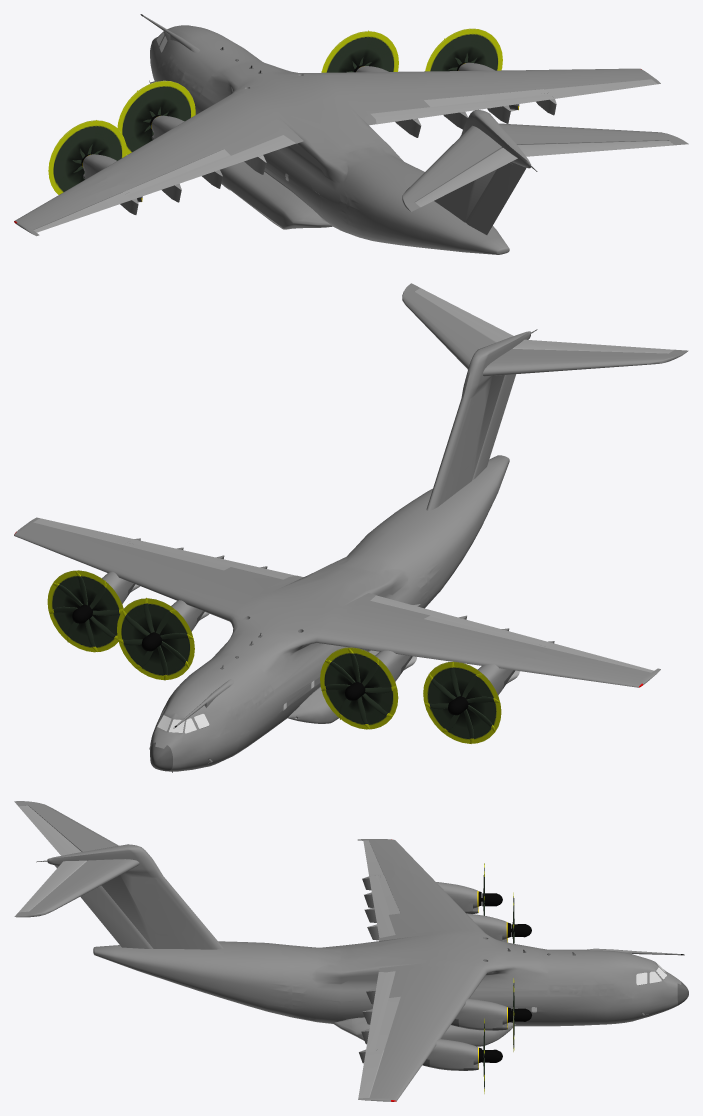
The picture shows the model from 3 angles, top to bottom: view 1: azimuth 30°, elevation 25°; view 2: azimuth 150°, elevation 25°; view 3: azimuth 270°, elevation 25°; orthographic projection. The views are drawn at different scales.
Parts seen in each view (by area): view 1: fuselage, Color_01.010, Disque0.2, Disque1.2, Mesh192, Mesh193, v-stab, Disque3.2, Disque2.2, rudder, left-flap, right-flap (+8 smaller); view 2: fuselage, v-stab, Disque0, Disque1, Disque2, Disque3, Mesh192, Mesh193, l-elevator, rudder, r-elevator, left-flap (+3 smaller); view 3: fuselage, v-stab, Mesh193, rudder, Mesh192, Mesh359, Mesh355, Color_01.009, right-flap, r-elevator, l-elevator, left-flap (+4 smaller).
Boxes of the visible parts, box(x1,y1,x2,y2) form: fuselage: box(15, 25, 660, 254); Color_01.010: box(220, 161, 332, 228); Disque0.2: box(49, 120, 126, 194); Disque1.2: box(118, 81, 195, 154); Mesh192: box(402, 125, 501, 211); Mesh193: box(498, 123, 688, 145); v-stab: box(434, 109, 530, 222); Disque3.2: box(426, 28, 502, 71); Disque2.2: box(322, 31, 398, 72); rudder: box(466, 162, 524, 234); left-flap: box(127, 135, 295, 199); right-flap: box(370, 94, 554, 124); fuselage: box(14, 455, 660, 771); v-stab: box(426, 331, 531, 510); Disque0: box(423, 662, 500, 743); Disque1: box(320, 647, 397, 729); Disque2: box(117, 598, 194, 679); Disque3: box(47, 570, 123, 652); Mesh192: box(483, 349, 688, 376); Mesh193: box(402, 283, 495, 369); l-elevator: box(512, 339, 674, 353); rudder: box(472, 374, 515, 480); r-elevator: box(415, 288, 513, 342); left-flap: box(370, 595, 552, 645); fuselage: box(93, 839, 681, 1101); v-stab: box(47, 844, 223, 949); Mesh193: box(14, 859, 139, 917); rudder: box(80, 885, 153, 948); Mesh192: box(14, 801, 118, 851); Mesh359: box(455, 998, 506, 1030); Mesh355: box(427, 1039, 477, 1070); Color_01.009: box(333, 1017, 515, 1046); right-flap: box(365, 971, 395, 1051); r-elevator: box(19, 860, 86, 912); l-elevator: box(18, 805, 81, 855); left-flap: box(369, 875, 395, 938).
Size of the model in its own units: 41.85 by 13.36 by 45.68.
Materials: 14 (2 with a texture image).
